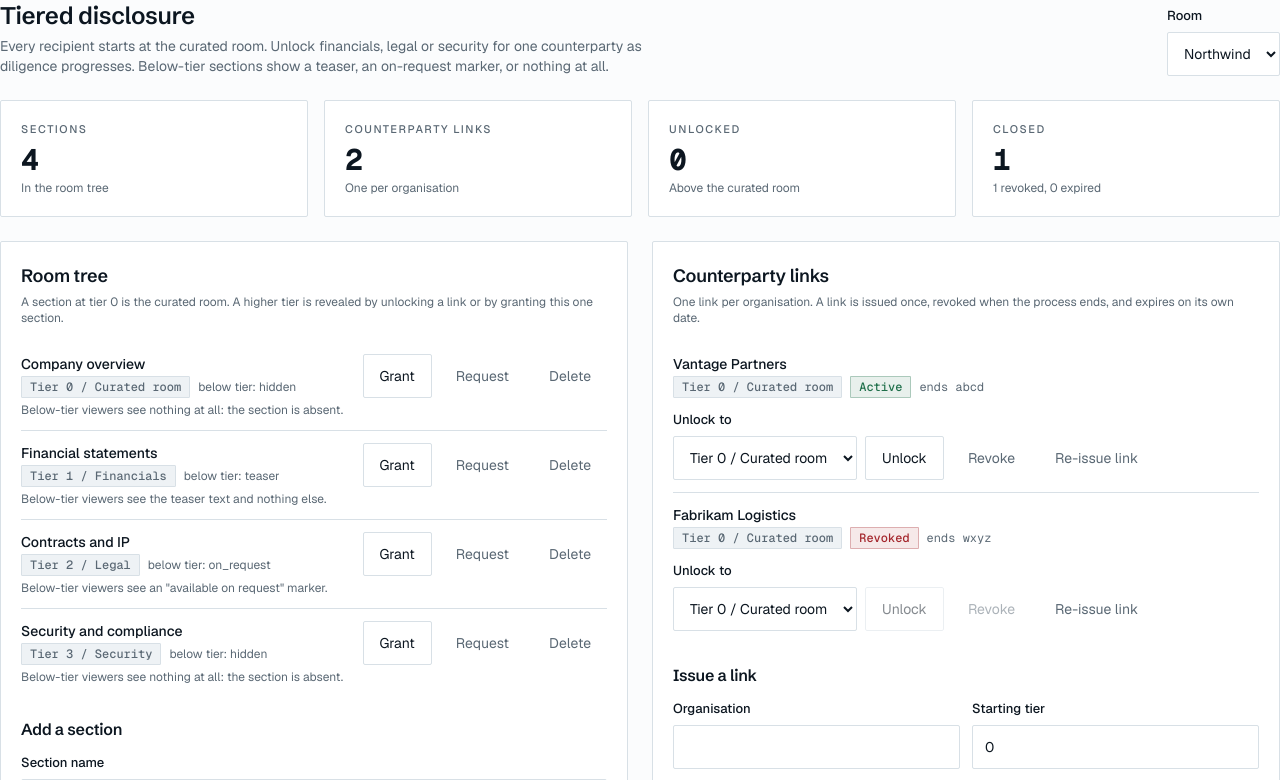
Test: issuing and clearing a link › shows the server's reason when an unlock is refused
Click the button "Unlock" below "Vantage Partners". click: (904, 458)
box: [865,436,944,480]
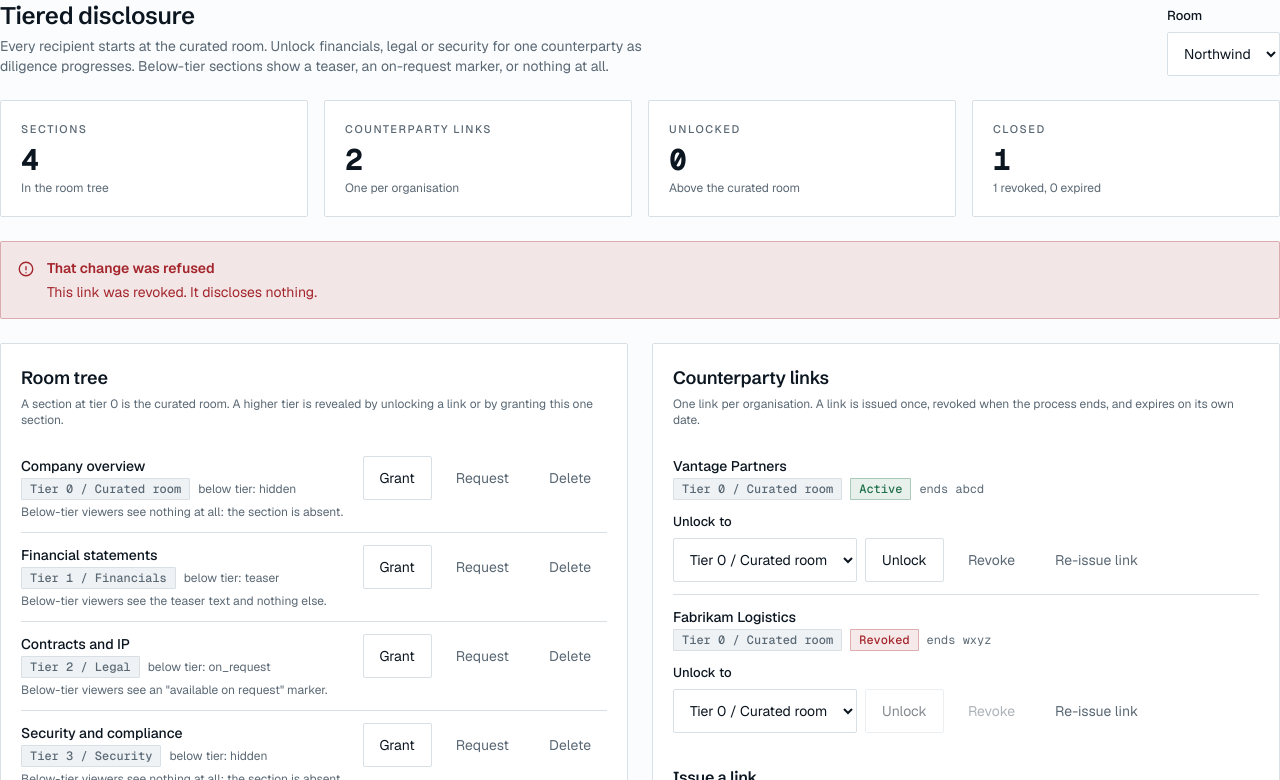
Now the text "That change was refused" is shown, box [47,259,215,277]
Now the text "This link was revoked. It discloses nothing." is shown, box [47,283,317,301]
